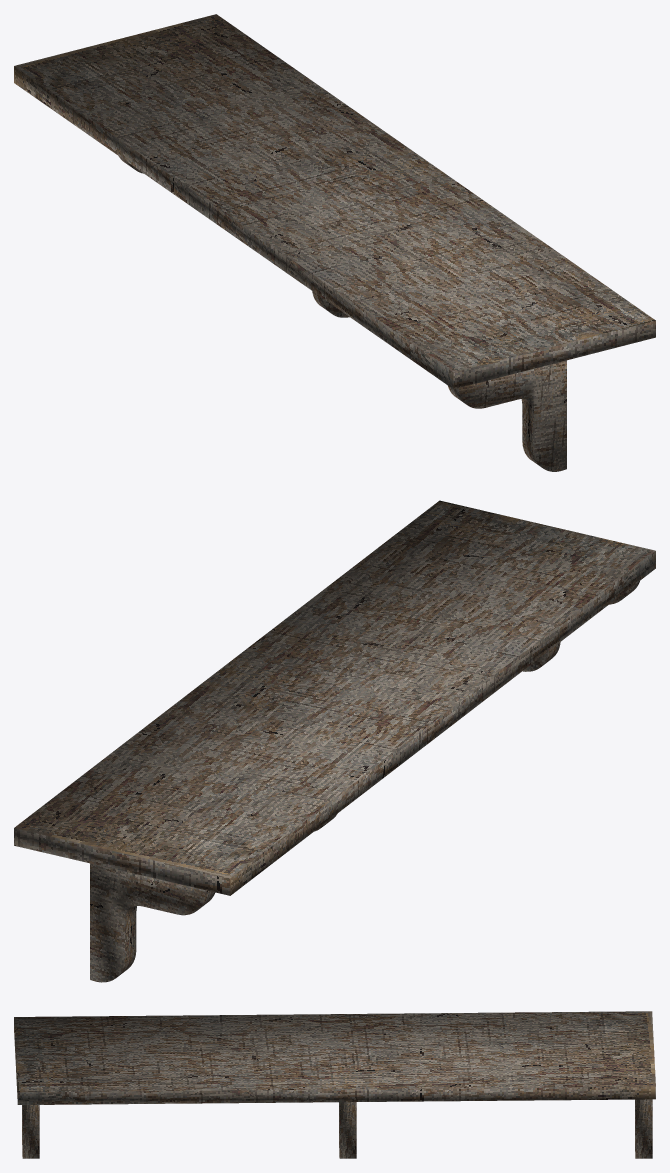
Rendered from wallshelf.glb.
The picture shows the model from 3 angles, top to bottom: view 1: azimuth 30°, elevation 25°; view 2: azimuth 150°, elevation 25°; view 3: azimuth 270°, elevation 25°; orthographic projection. The views are drawn at different scales.
Parts seen in each view (by area): view 1: wallshelf; view 2: wallshelf; view 3: wallshelf.
Boxes of the visible parts, box(x1,y1,x2,y2) form: wallshelf: box(14, 14, 655, 471); wallshelf: box(14, 500, 655, 982); wallshelf: box(14, 1011, 655, 1158).
Size of what is drawn, in the model's own units: 0.9256 by 0.5228 by 3.1.
1 material, 1 textured.
